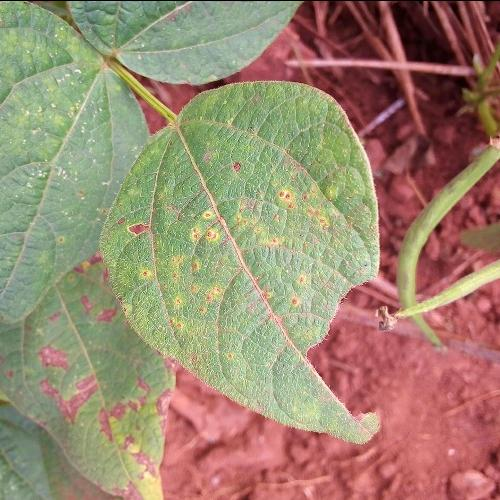mozaik: (98, 78, 383, 447)
